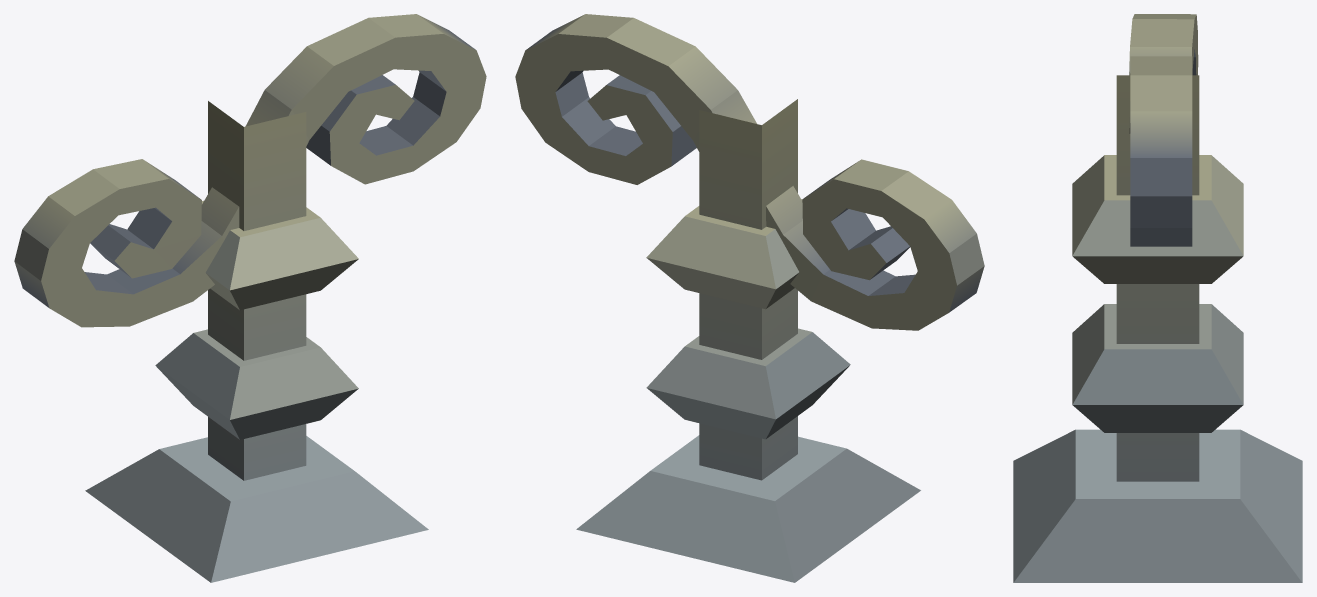
The model's file is candleStick1_10.glb.
3 views of the same model, side by side, from view 1: azimuth 30°, elevation 25°; view 2: azimuth 150°, elevation 25°; view 3: azimuth 270°, elevation 25° (orthographic). The views are drawn at different scales.
Parts seen in each view (by area): view 1: candleStick1; view 2: candleStick1; view 3: candleStick1.
Part boxes in pixels (box(x1,y1,x2,y2)): candleStick1: box(14, 14, 486, 582); candleStick1: box(515, 14, 984, 582); candleStick1: box(1013, 14, 1302, 582).
Size of the model in its own units: 0.6255 by 0.608 by 0.3079.
